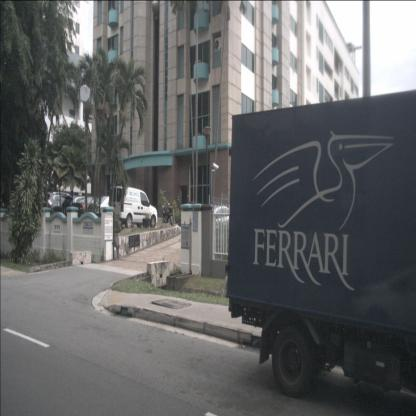vehicle-car: (110, 186, 157, 229), (187, 204, 234, 238), (88, 196, 132, 228), (72, 197, 113, 225), (61, 196, 101, 224), (42, 192, 80, 221)
vehicle-motorcycle: (162, 203, 174, 225)
vehicle-truck: (226, 87, 416, 399)
